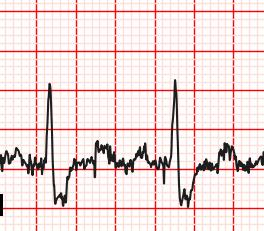ST Depression: (161, 151, 201, 208), (40, 149, 74, 208)
